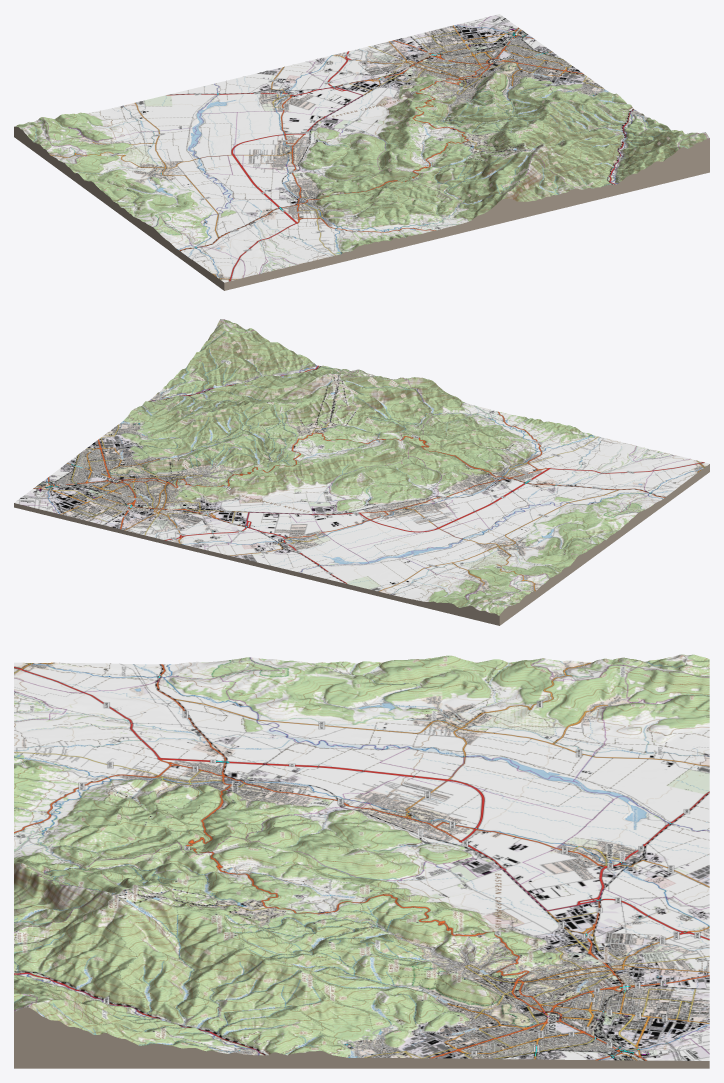
3 renders of one model, top to bottom at view 1: azimuth 30°, elevation 25°; view 2: azimuth 150°, elevation 25°; view 3: azimuth 270°, elevation 25°, orthographic. The views are drawn at different scales.
Visible parts, largest first — view 1: BV50-E4 Brașov; view 2: BV50-E4 Brașov; view 3: BV50-E4 Brașov.
Boxes of the visible parts, <box> form: BV50-E4 Brașov: <box>14,14,709,290</box>; BV50-E4 Brașov: <box>14,319,709,625</box>; BV50-E4 Brașov: <box>14,654,709,1068</box>.
Bounding box in the file's own units: 20001 × 1463 × 15004.
Materials: 7 (1 with a texture image).
